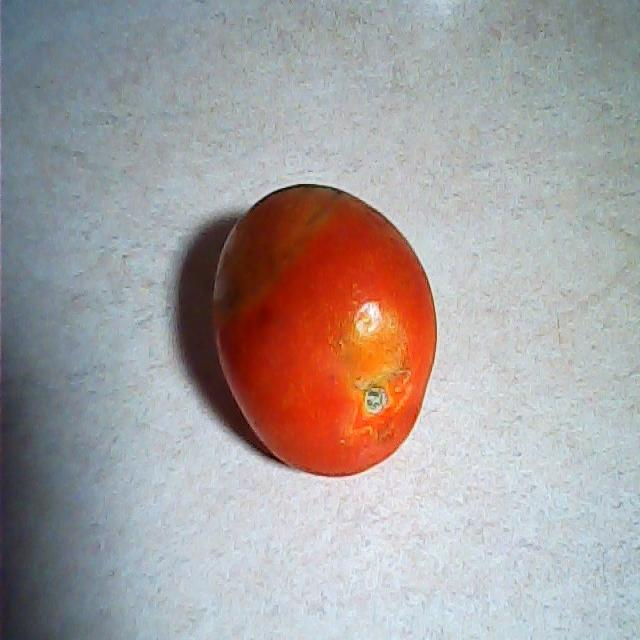maduro: (208, 181, 440, 485)
